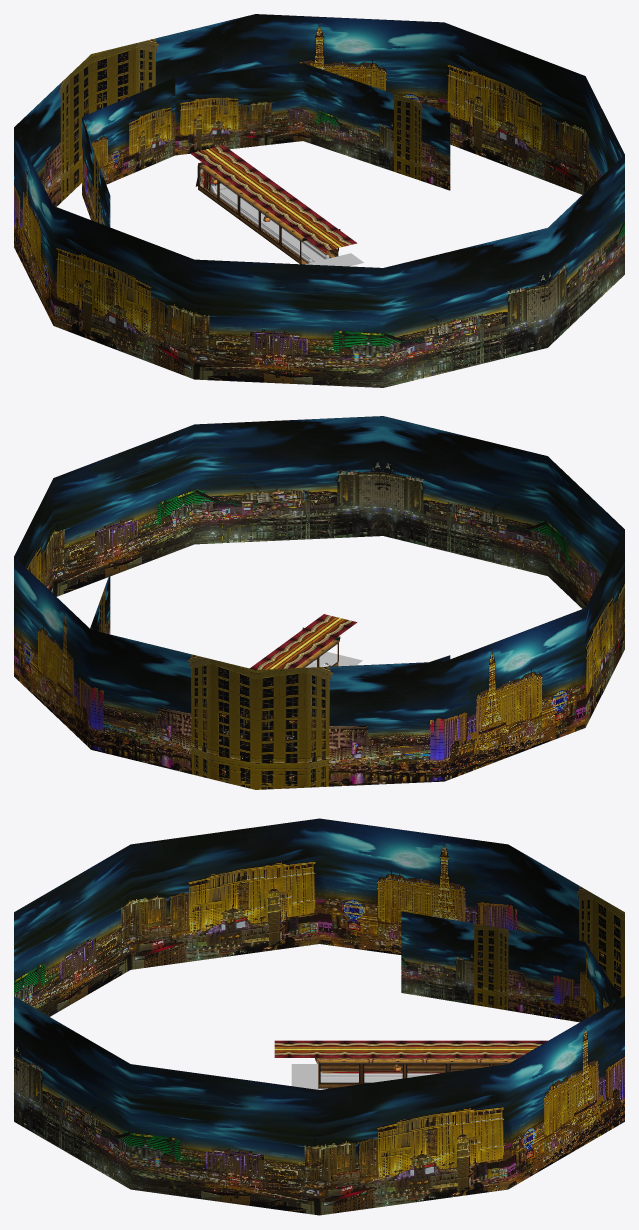
Rendered from Alley_Vegas.fbx.
The picture shows the model from 3 angles, top to bottom: view 1: azimuth 30°, elevation 25°; view 2: azimuth 150°, elevation 25°; view 3: azimuth 270°, elevation 25°; orthographic projection. The views are drawn at different scales.
Visible parts, largest first — view 1: Moonsky, Vegas_Citiscape, Ceiling, lane, WallTopDetail_L, WallBottomDetail_L, Window_L; view 2: Moonsky, Ceiling, Vegas_Citiscape; view 3: Moonsky, Vegas_Citiscape, Ceiling, WallTopDetail_R, WallBottomDetail_L, approach, Window_R.
Part boxes in pixels (x1,y1,x2,y2): Moonsky: (14,14,624,387); Vegas_Citiscape: (82,63,450,227); Ceiling: (190,145,357,251); lane: (215,184,323,261); WallTopDetail_L: (199,165,307,241); WallBottomDetail_L: (198,185,301,264); Window_L: (197,166,301,259); Moonsky: (14,416,624,789); Ceiling: (250,614,357,669); Vegas_Citiscape: (90,573,450,662); Moonsky: (14,818,624,1215); Vegas_Citiscape: (401,911,620,1022); Ceiling: (274,1040,547,1057); WallTopDetail_R: (315,1058,517,1063); WallBottomDetail_L: (320,1064,507,1070); approach: (291,1064,319,1089); Window_R: (318,1063,508,1083).
Size of the model in its own units: 978006 by 216747 by 930140.
